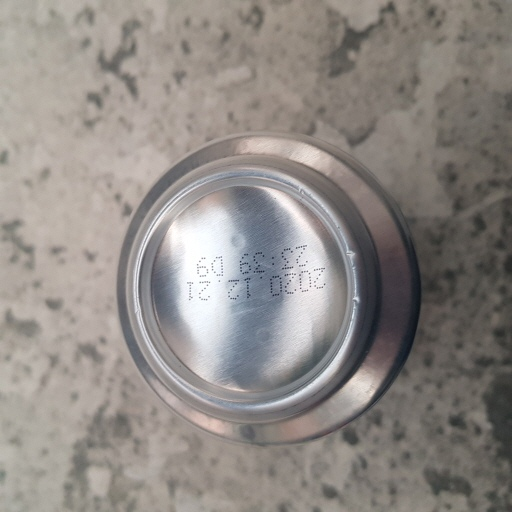Metal_0: (117, 132, 421, 441)
